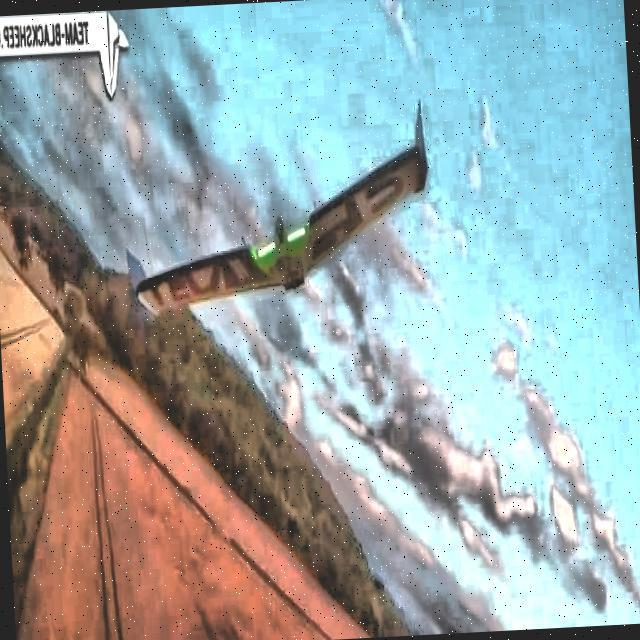iha: (113, 91, 461, 325)
